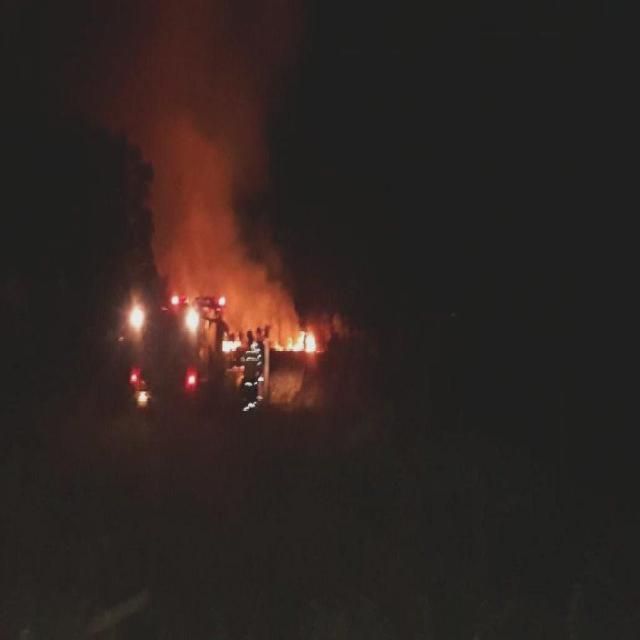Fire: (274, 328, 316, 352)
